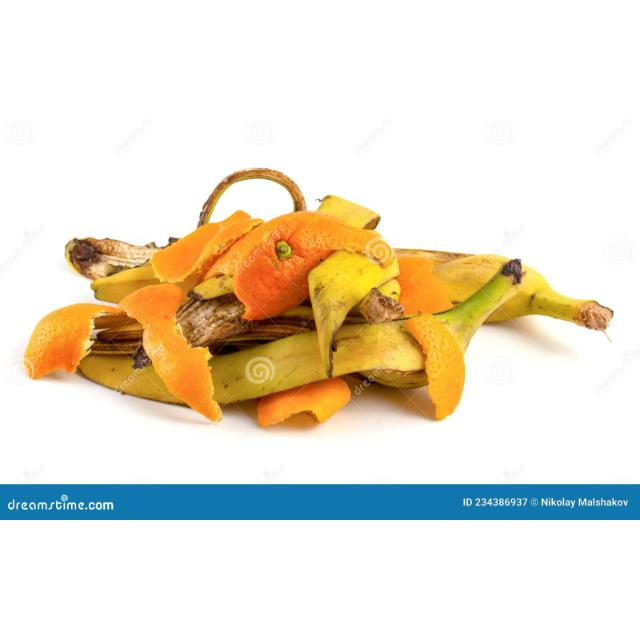organic: (22, 169, 615, 431)
